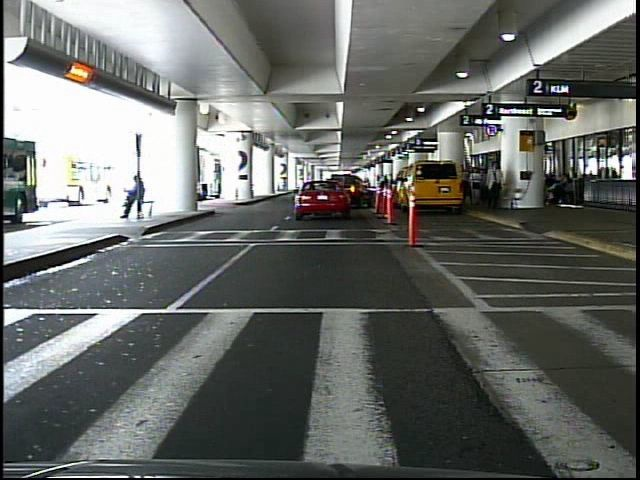person: (486, 162, 504, 210), (470, 166, 485, 210), (482, 169, 493, 207)
